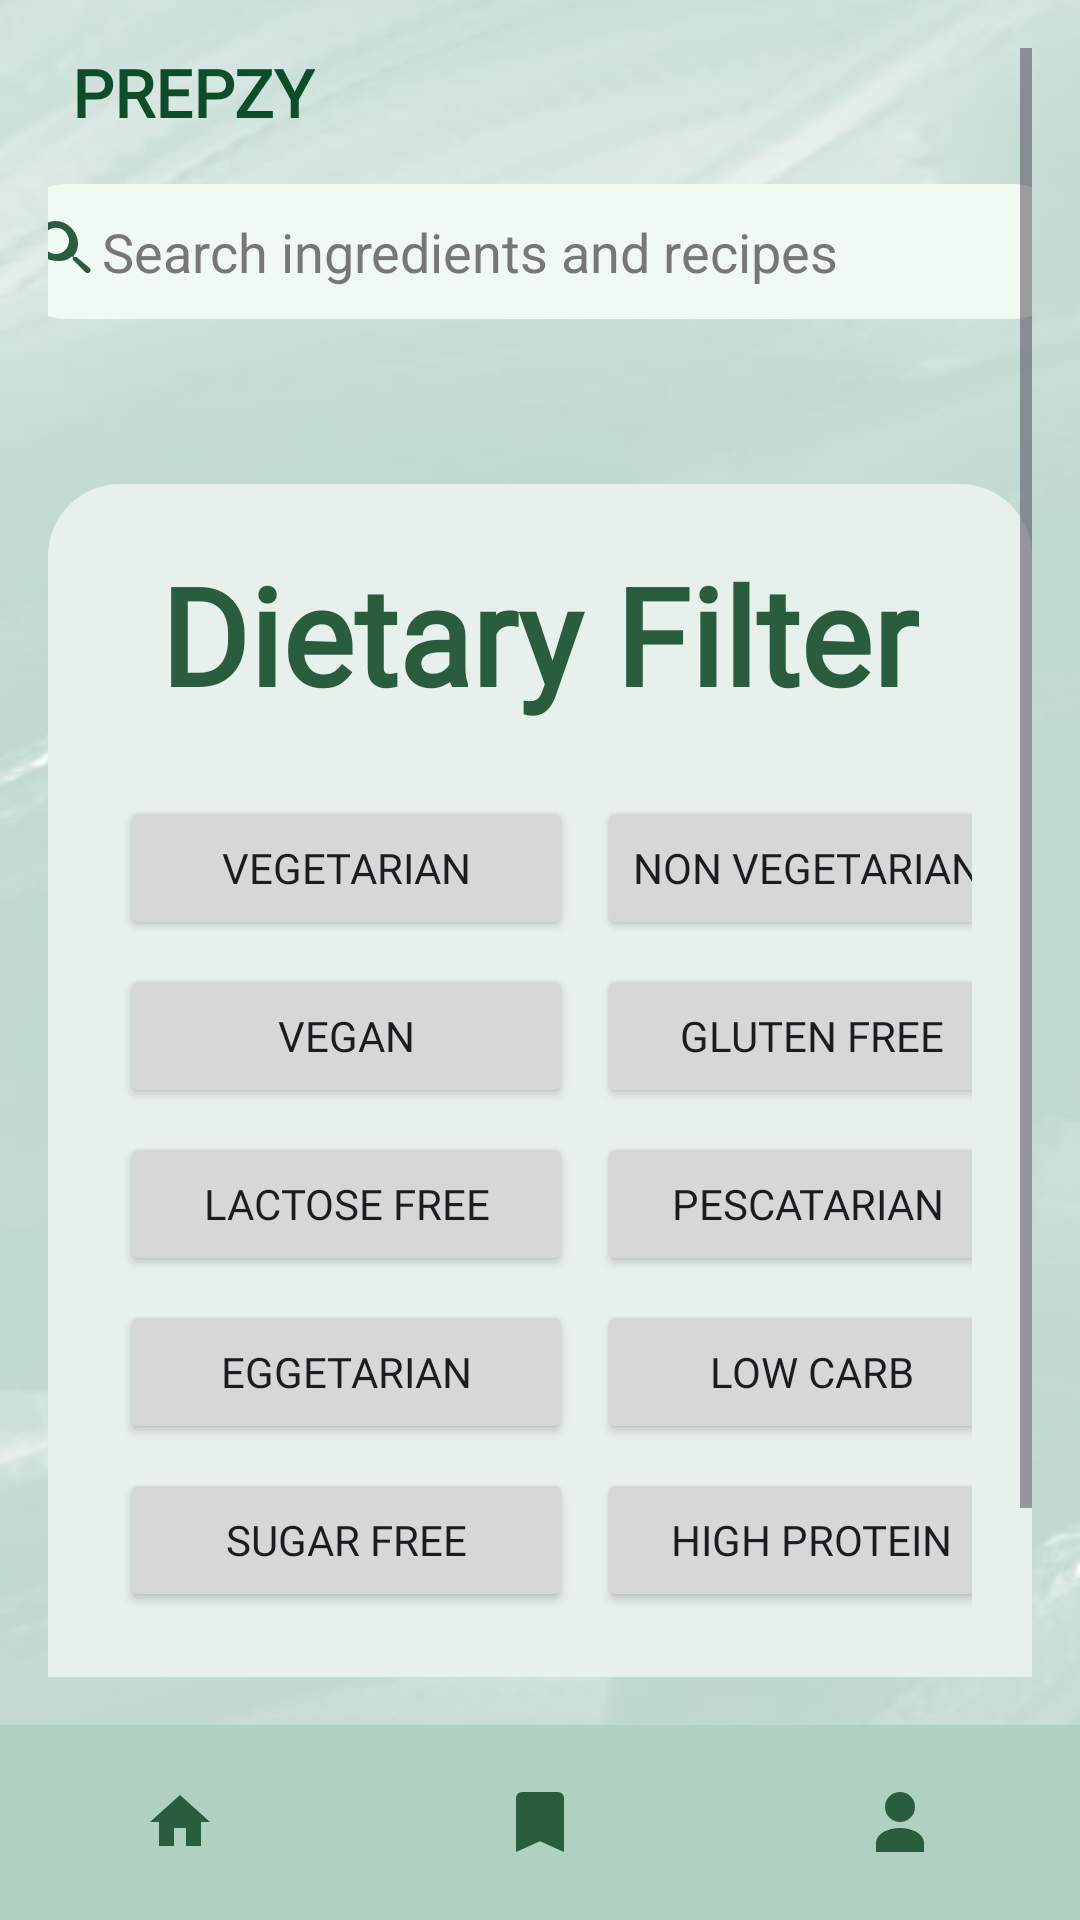

Icons on this 1080 x 1920 Android screen, each with the point to tap as (x=x, y=y):
Bookmarks: (x=540, y=1822)
Home: (x=180, y=1820)
Profile: (x=900, y=1822)
